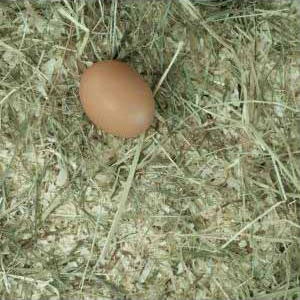egg: (79, 60, 155, 139)
